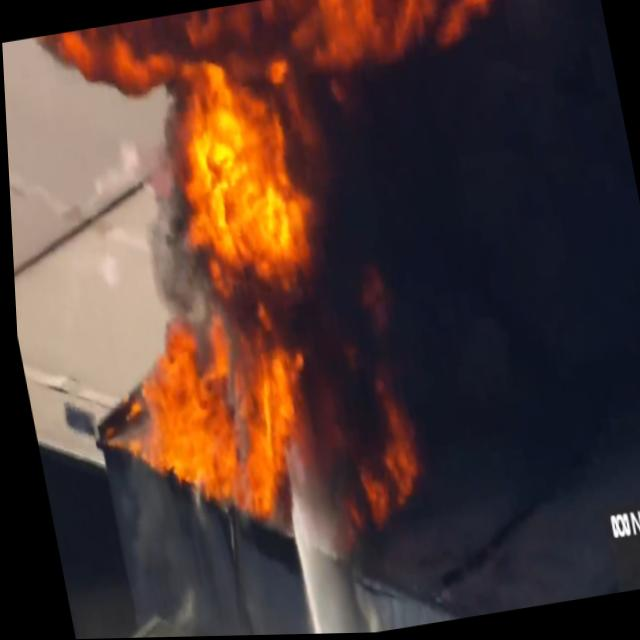Fire: (158, 51, 338, 309), (127, 318, 329, 515), (290, 0, 512, 77)
